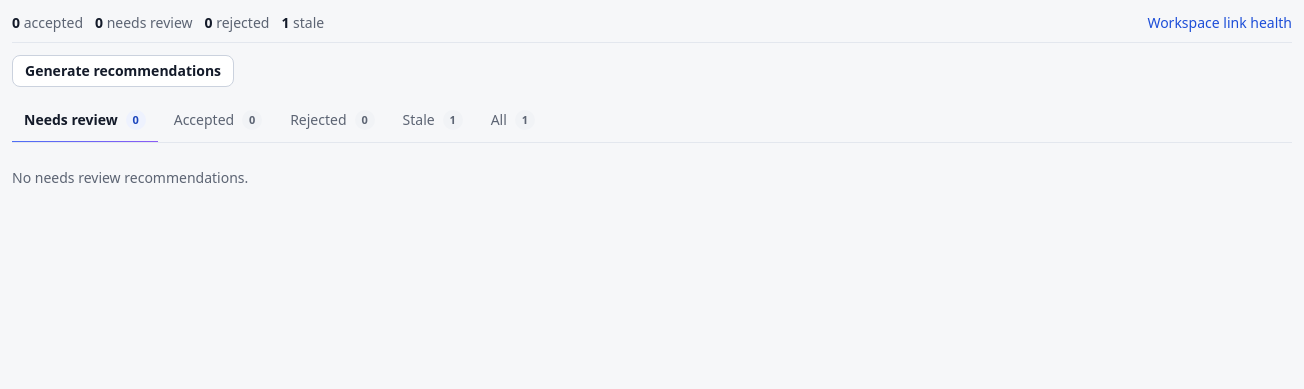
Test case: InternalLinkRecommendations › shows STALE rows as non-actionable with their stale reason
Expected: the button "Generate recommendations" is shown, left=12, top=55, right=234, bottom=87
Step 1. Click the tab "Stale 1" → click(433, 121), box left=390, top=99, right=475, bottom=143
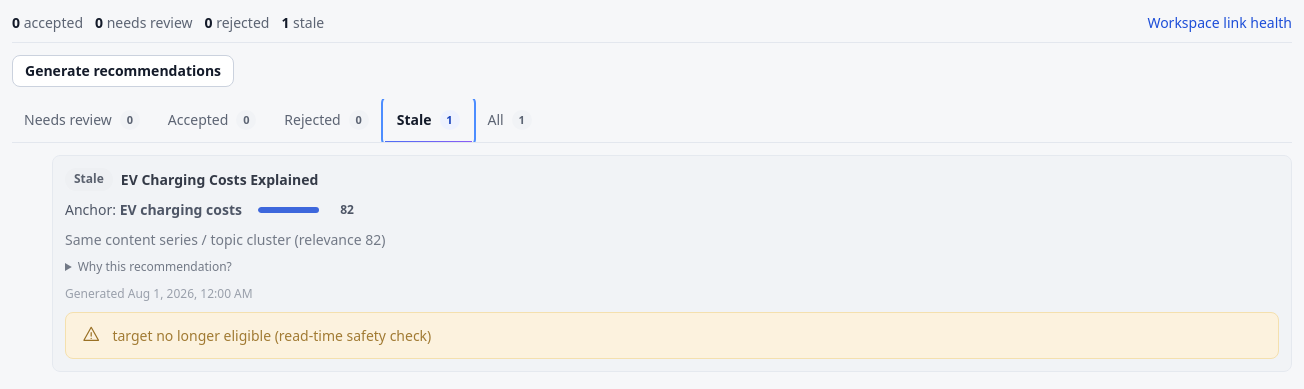
Expected: the text "Stale" next to "EV Charging Costs Explained" is shown, left=74, top=170, right=104, bottom=187
Expected: the text "target no longer eligible (read-time safety check)" is shown, left=112, top=326, right=431, bottom=344
